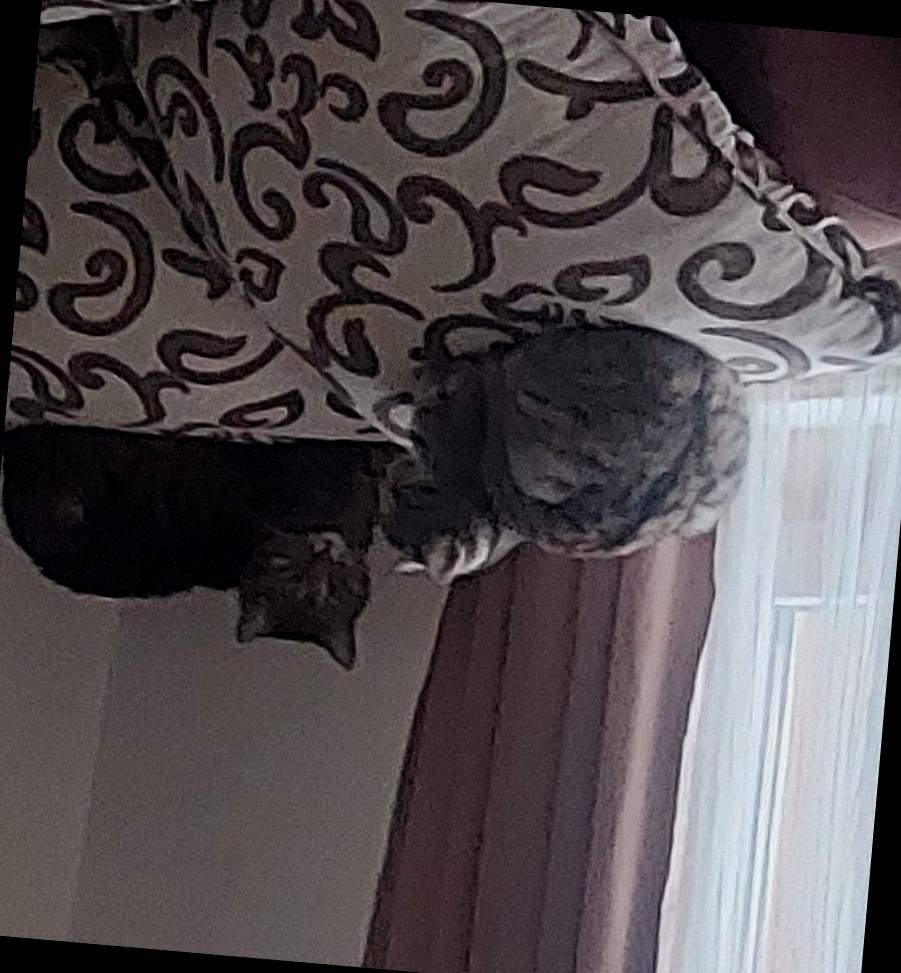macka: (367, 304, 760, 612), (0, 411, 429, 678)
